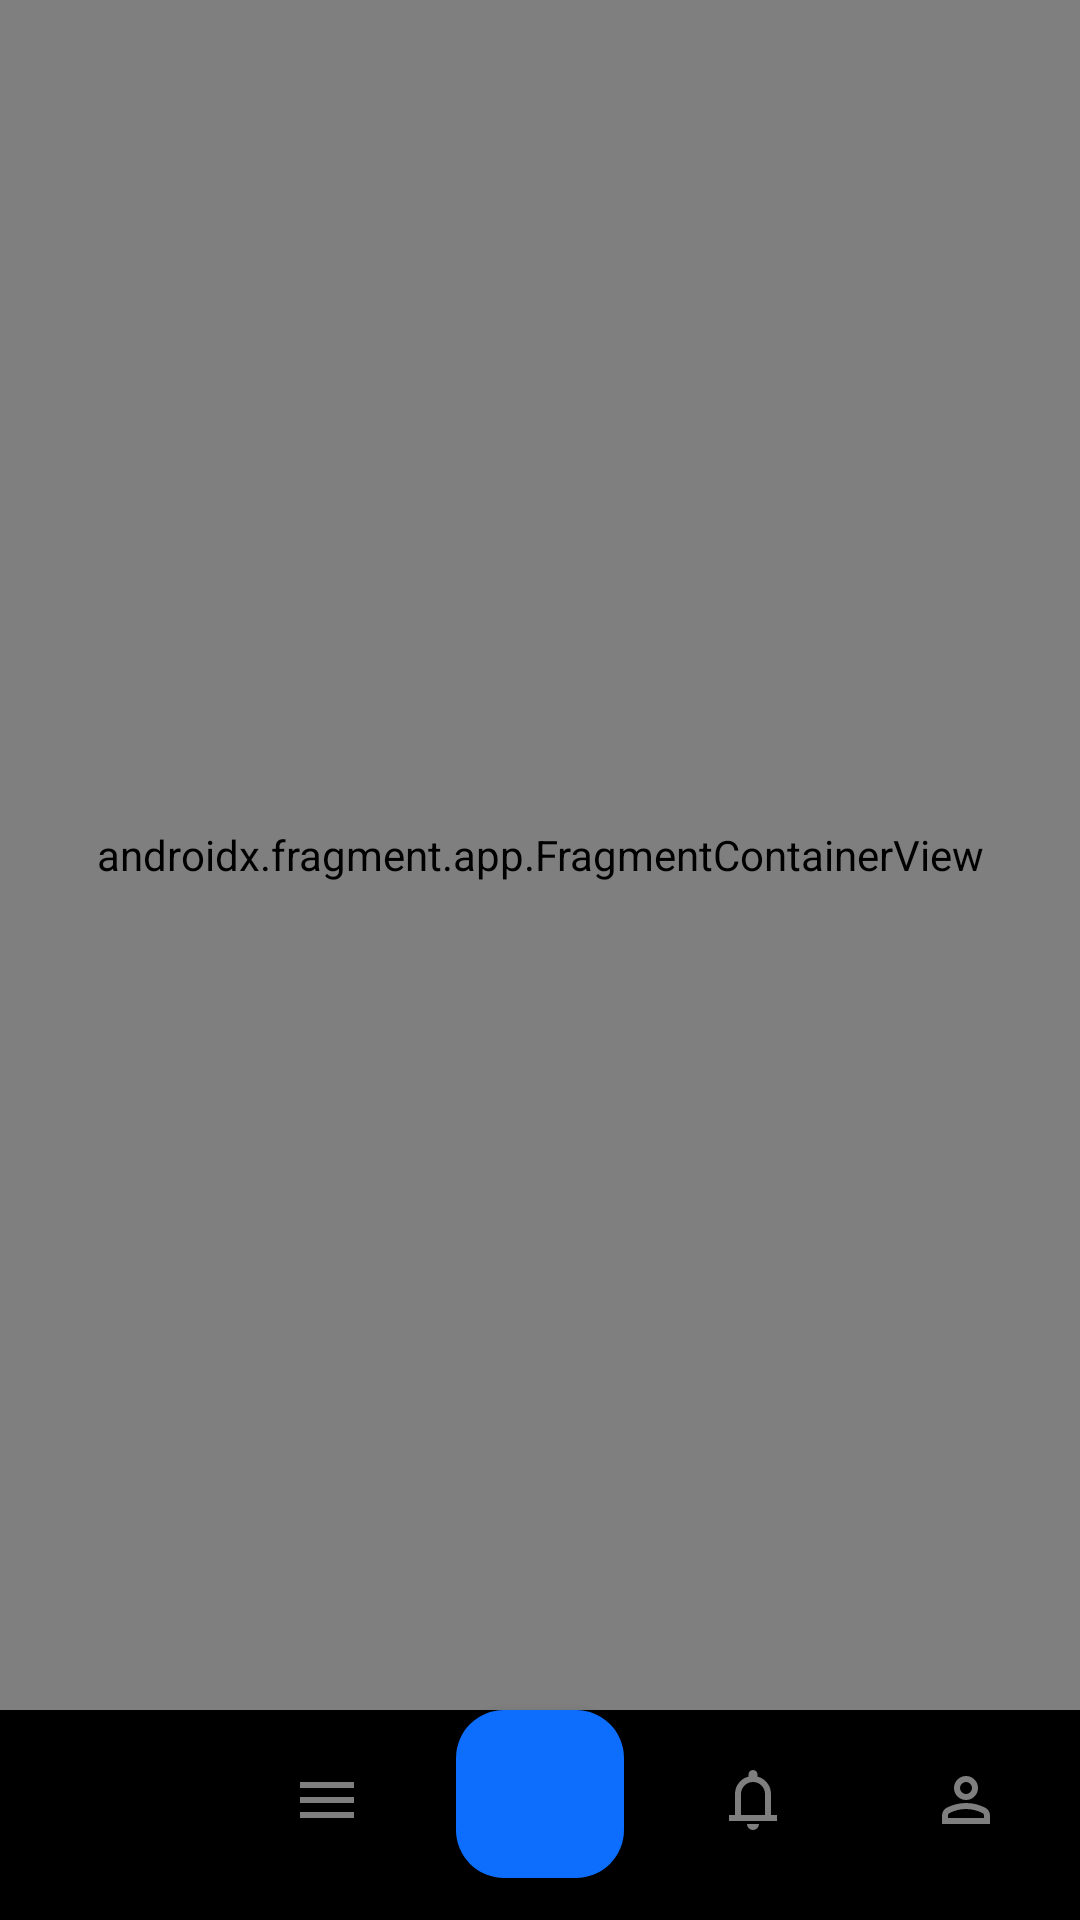

Named icons in this screenshot (1080*1920) and their bounding boxes, (x1, y1, x2, y2):
menu: (300, 1782, 354, 1818)
notification: (729, 1770, 777, 1830)
